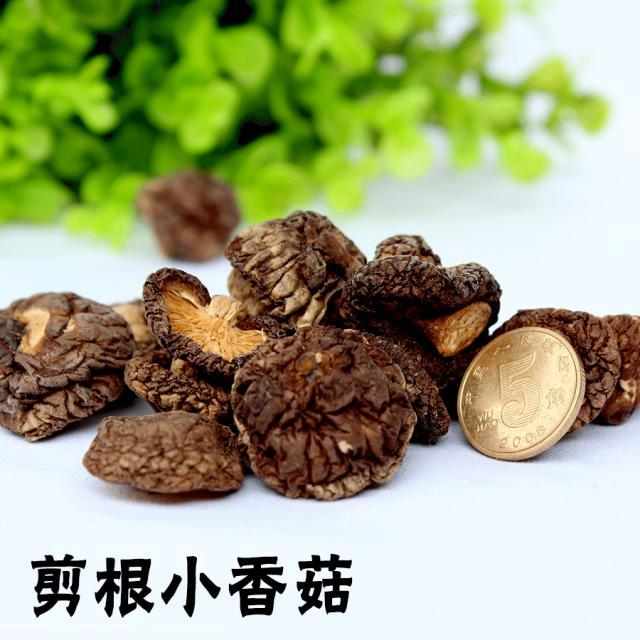Lentinus edodes: (234, 333, 420, 497), (0, 291, 134, 443), (141, 266, 282, 373), (86, 409, 246, 503)
